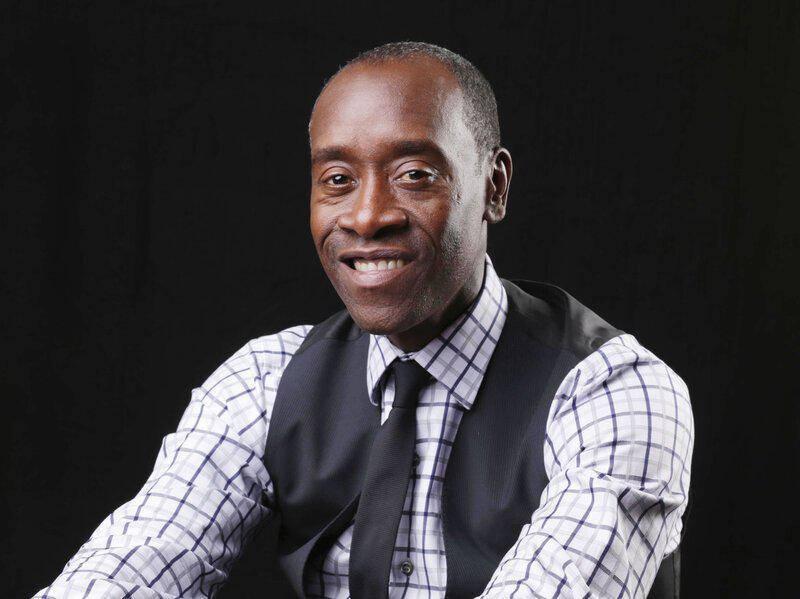Sober: (305, 79, 484, 328)
